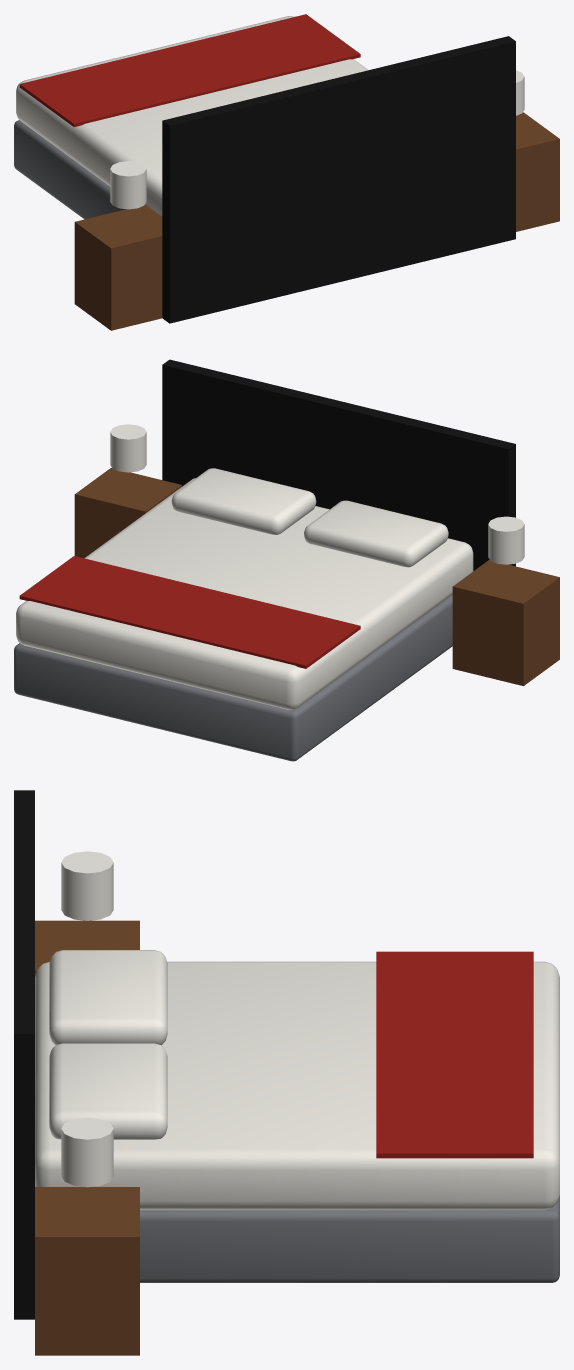
File: hospitality.room.hotel_bed.glb
The picture shows the model from 3 angles, top to bottom: view 1: azimuth 30°, elevation 25°; view 2: azimuth 150°, elevation 25°; view 3: azimuth 270°, elevation 25°; orthographic projection. The views are drawn at different scales.
Parts seen in each view (by area): view 1: main__leather_black, main__fabric_red, main__hardwood, main__fabric_white, main__fabric_grey; view 2: main__fabric_white, main__leather_black, main__fabric_grey, main__hardwood, main__fabric_red; view 3: main__fabric_white, main__fabric_red, main__fabric_grey, main__hardwood, main__leather_black.
Boxes of the visible parts, left/top/right/bottom form: main__leather_black: left=162, top=36, right=515, bottom=323; main__fabric_red: left=19, top=14, right=360, bottom=127; main__hardwood: left=74, top=112, right=559, bottom=330; main__fabric_white: left=16, top=16, right=524, bottom=216; main__fabric_grey: left=14, top=120, right=125, bottom=219; main__fabric_white: left=16, top=424, right=524, bottom=709; main__leather_black: left=162, top=359, right=515, bottom=570; main__fabric_grey: left=14, top=595, right=452, bottom=761; main__hardwood: left=74, top=467, right=559, bottom=685; main__fabric_red: left=19, top=556, right=360, bottom=668; main__fabric_white: left=35, top=851, right=559, bottom=1210; main__fabric_red: left=376, top=951, right=533, bottom=1158; main__fabric_grey: left=140, top=1195, right=559, bottom=1282; main__hardwood: left=35, top=920, right=139, bottom=1355; main__leather_black: left=14, top=790, right=34, bottom=1319.
Size of the model in its own units: 2.85 by 1.2 by 2.08.
